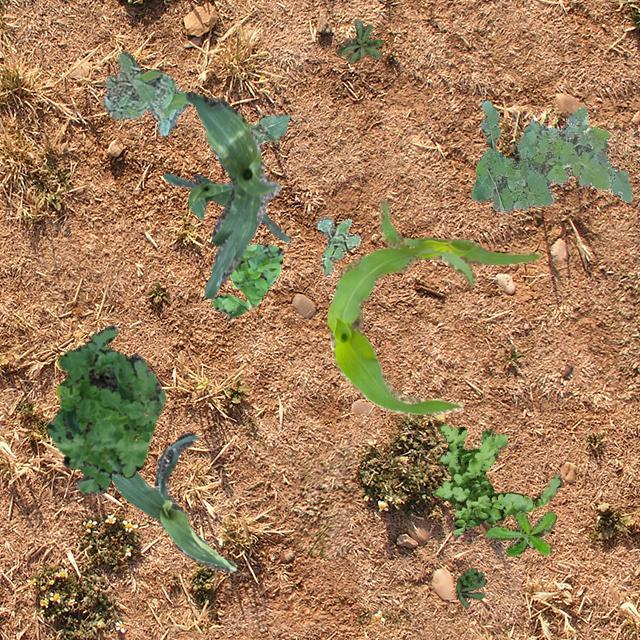crop: (326, 198, 540, 414), (186, 90, 280, 298), (110, 432, 236, 570), (162, 172, 288, 242), (249, 114, 289, 142)
weed: (46, 324, 164, 492), (469, 100, 632, 212), (432, 424, 562, 534), (102, 51, 188, 136), (212, 242, 282, 320), (484, 510, 556, 556), (316, 216, 360, 274), (336, 18, 382, 62), (454, 566, 486, 608)
